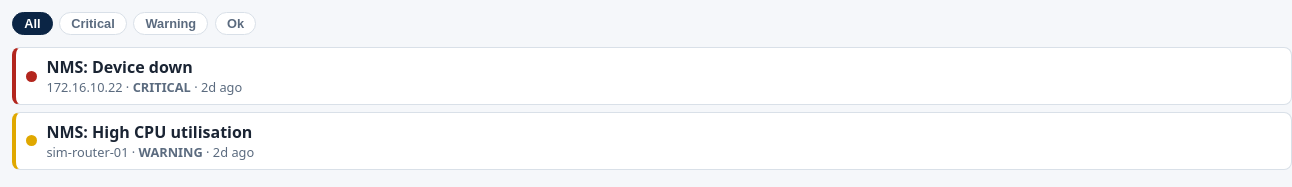
it: AlarmFeed (FR-30/32/34) › shows an honest empty state (not error) when a severity filter yields none
Expected: the text "NMS: Device down" is shown, left=46, top=56, right=193, bottom=78
Click the button "Ok": x=236, y=24 left=215, top=12, right=256, bottom=35
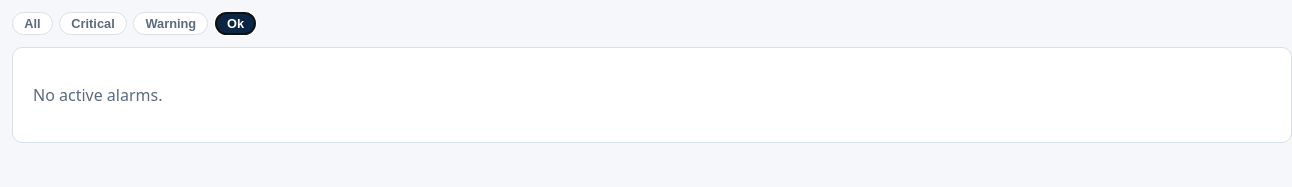
Expected: the text "No active alarms." is shown, left=33, top=84, right=162, bottom=106
